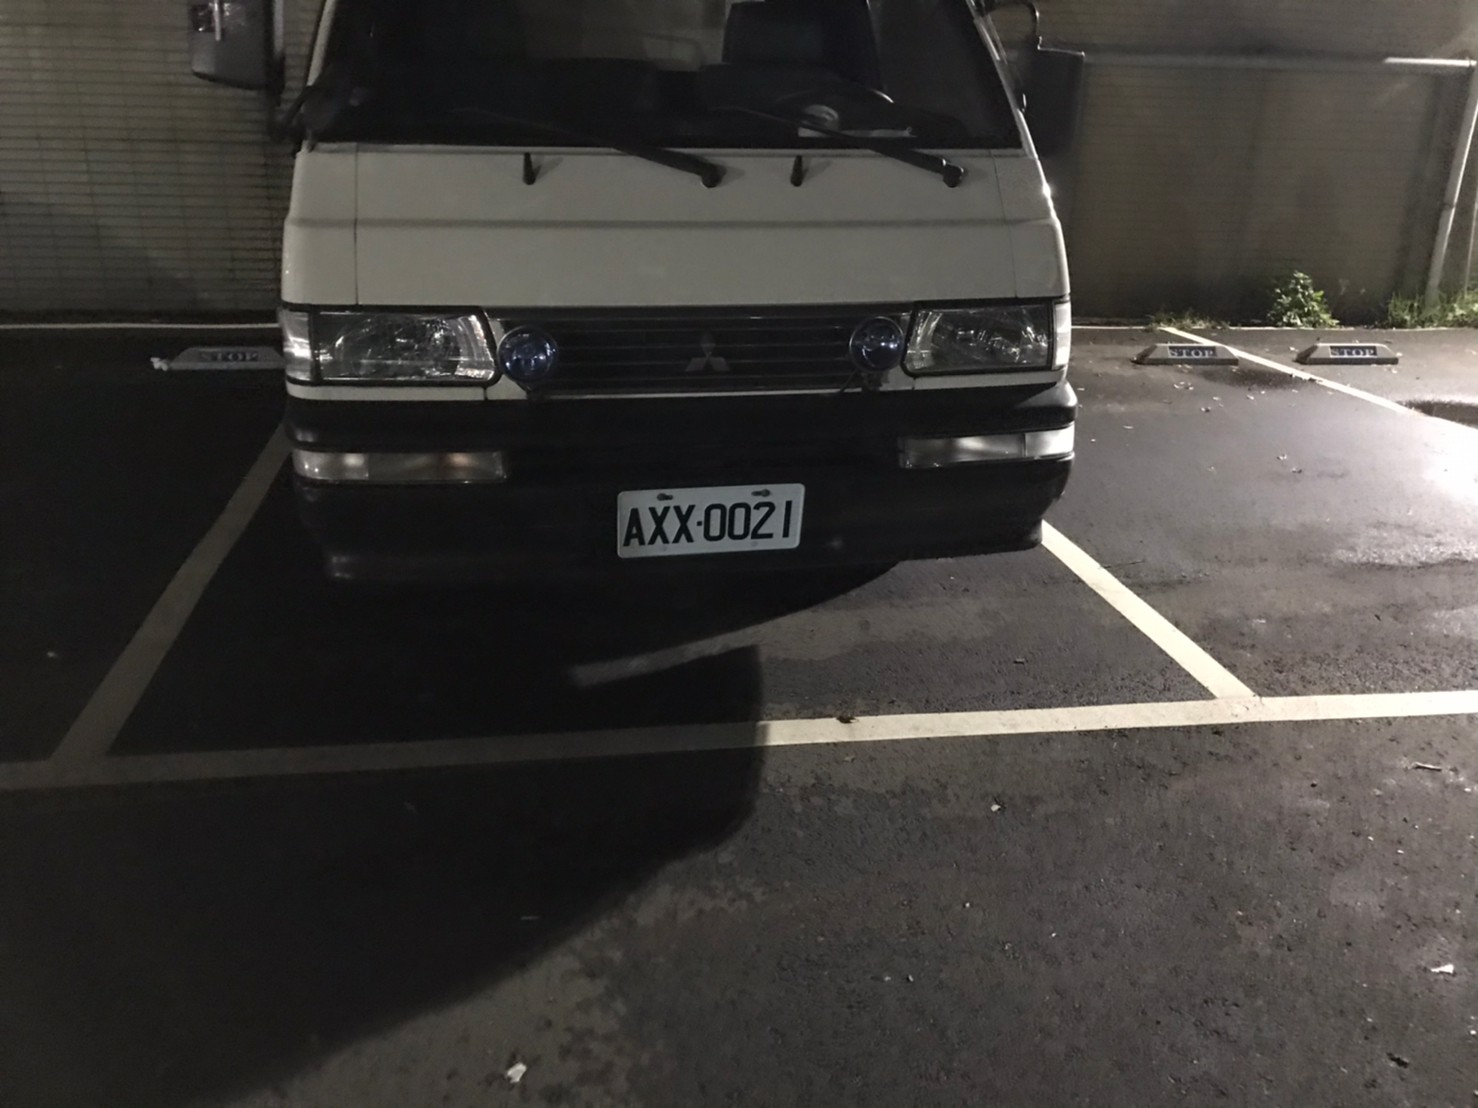LP: (605, 477, 806, 559)
